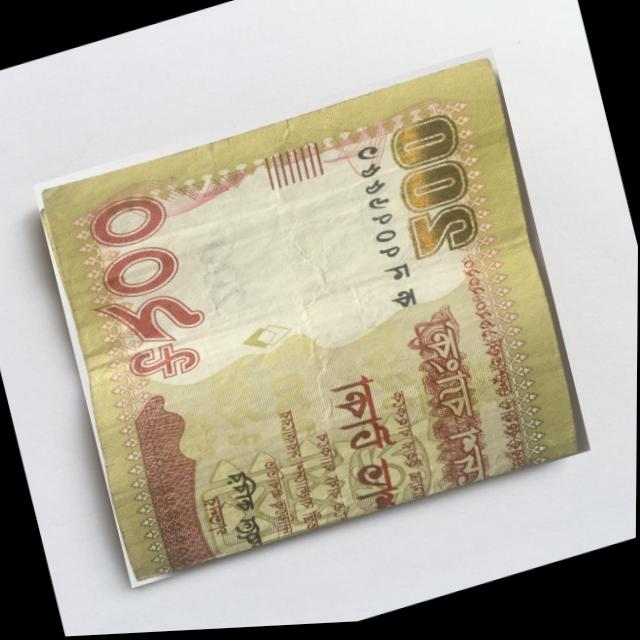Taka: (31, 48, 594, 593)
